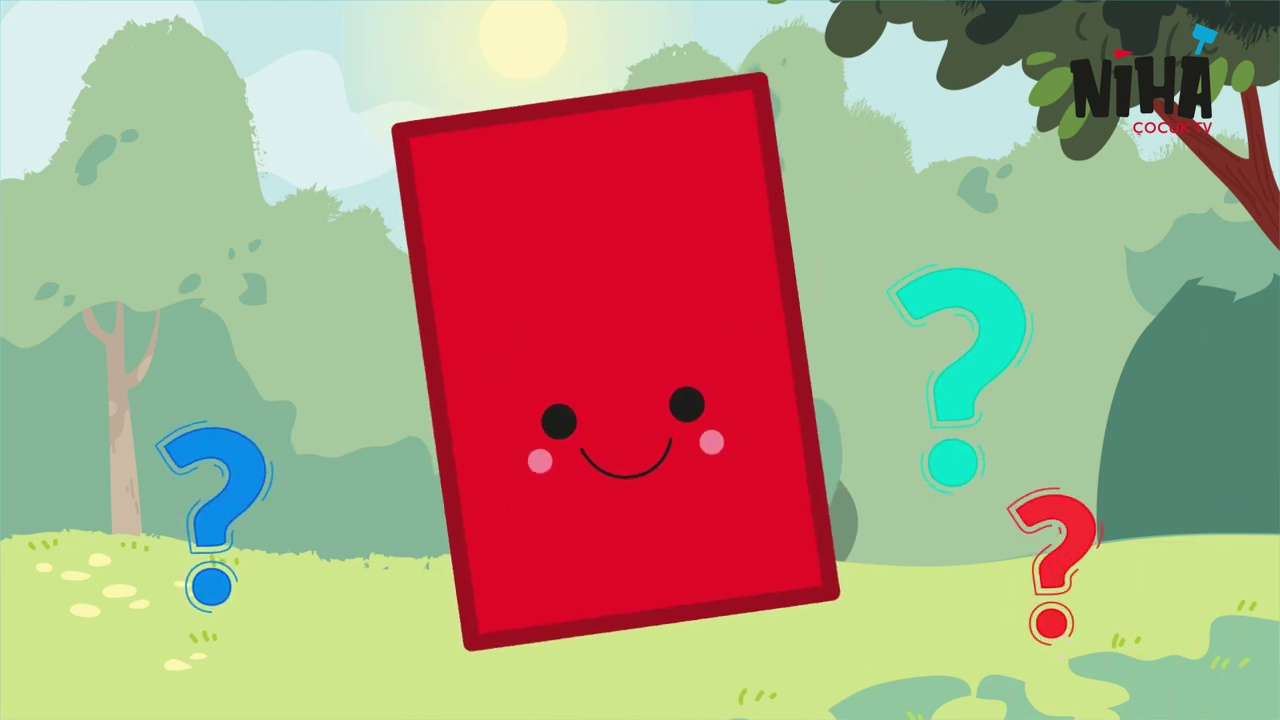dikdortgen: (381, 73, 874, 657)
